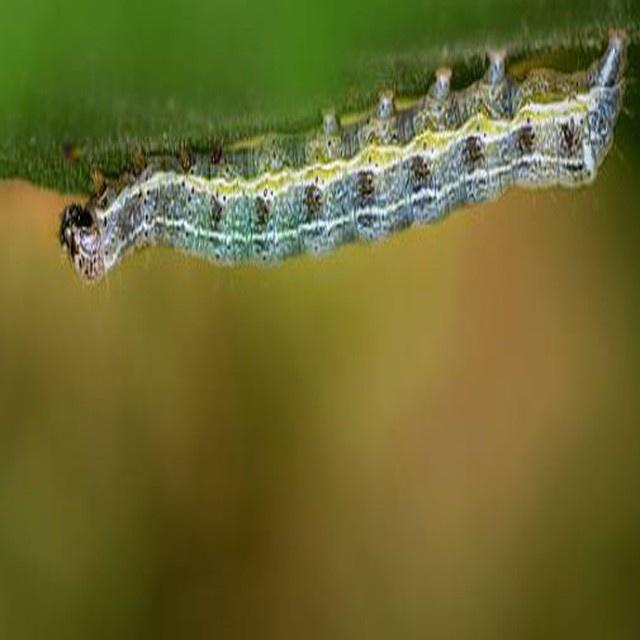Plaga: (64, 31, 628, 287)
